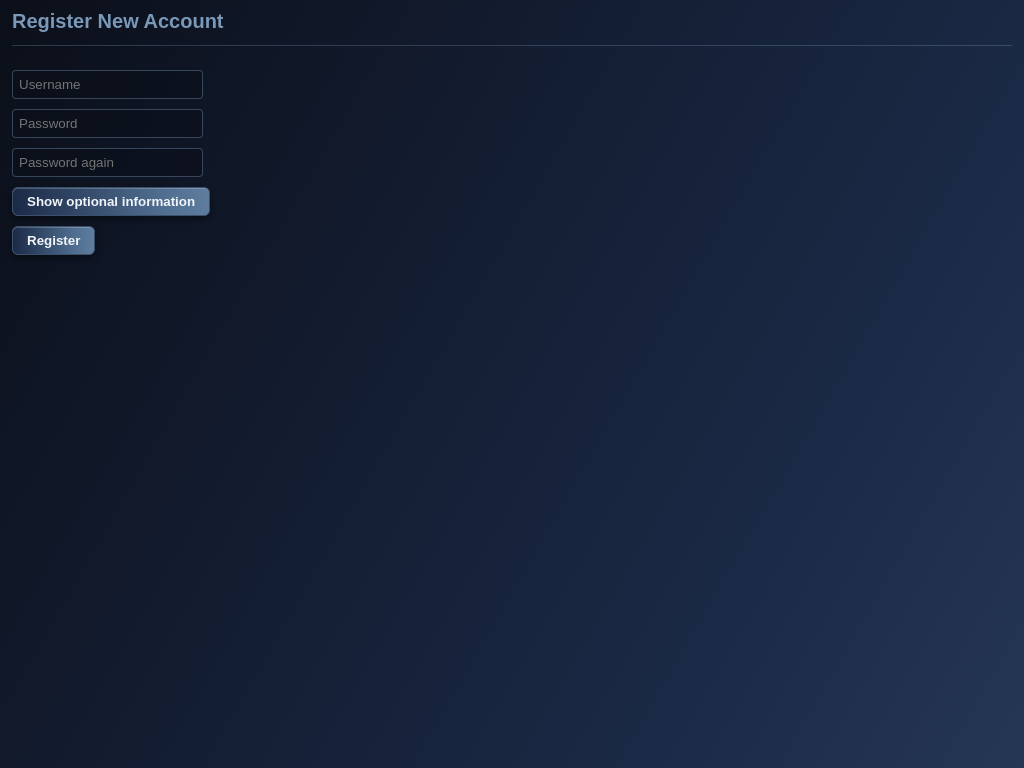
Test case: shows error message if passwords do not match
The image size is (1024, 768).
Type "testuser" into the field with placeholder "Username" at {"x": 108, "y": 84}, box [12,70,203,99]
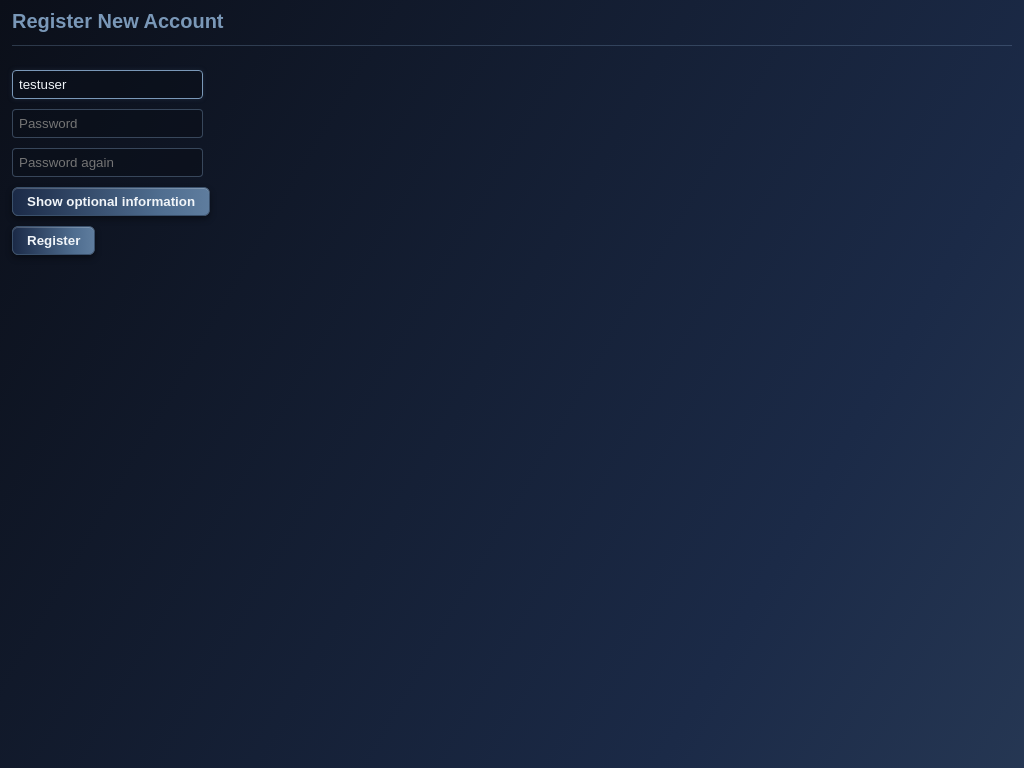
Type "12345" into the password field with placeholder "Password" at {"x": 108, "y": 124}, box [12,109,203,138]
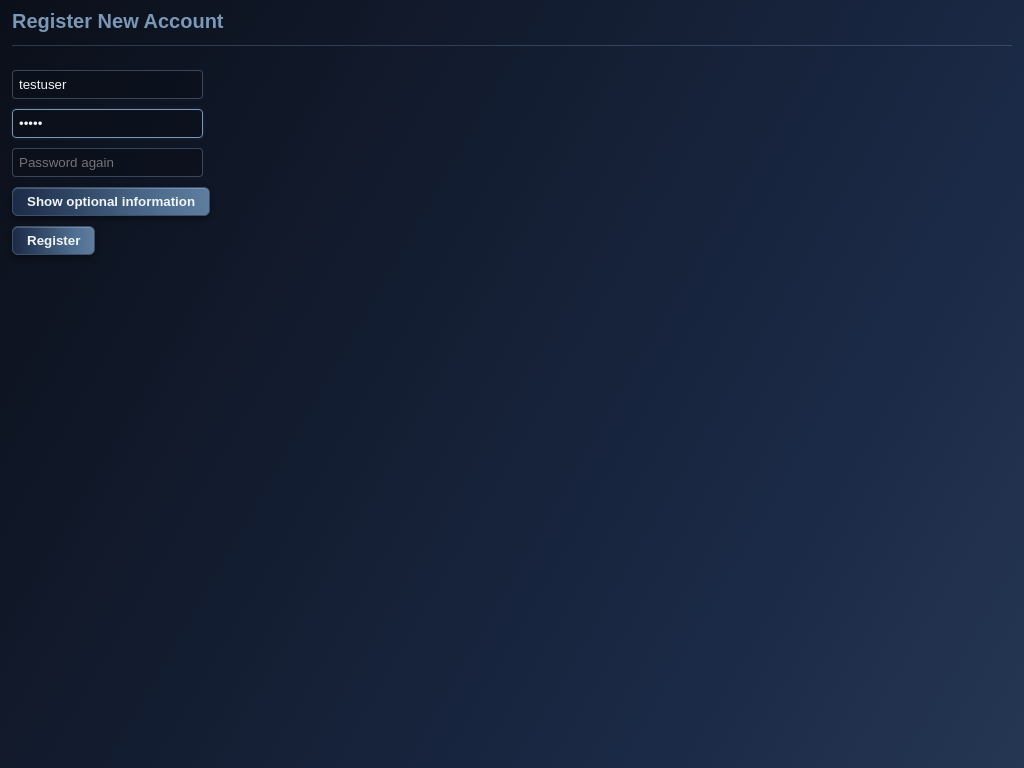
Type "54321" into the password field with placeholder "Password again" at {"x": 108, "y": 162}, box [12,148,203,177]
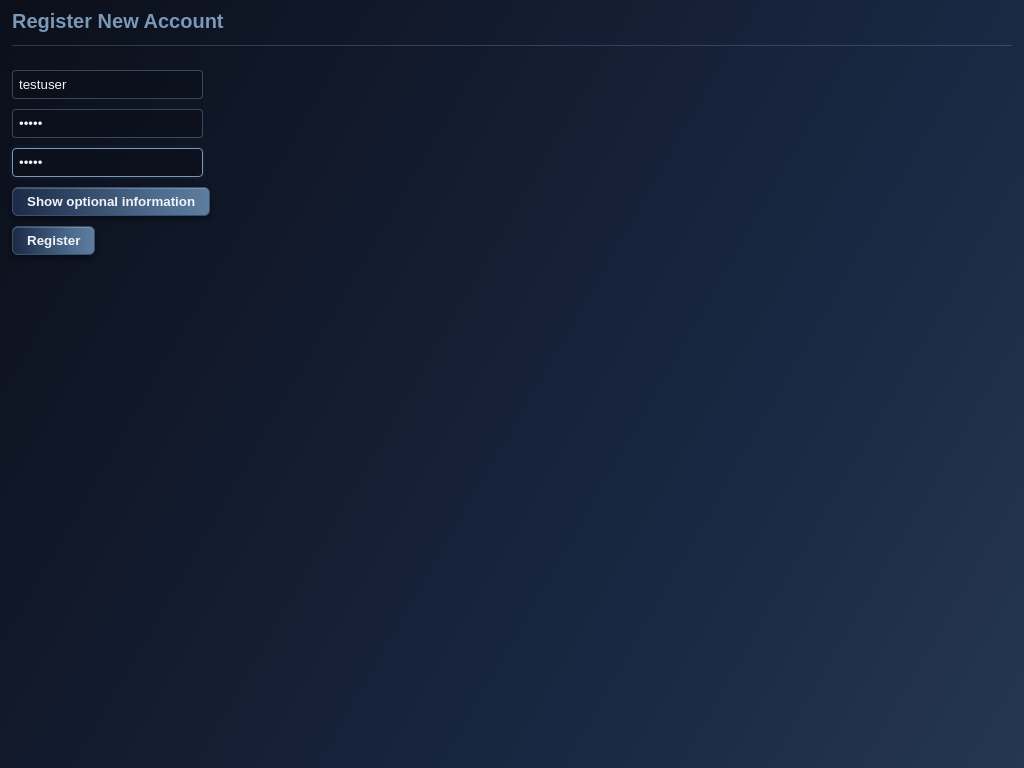
Click the button "Register" at {"x": 54, "y": 240}, box [12,226,95,255]
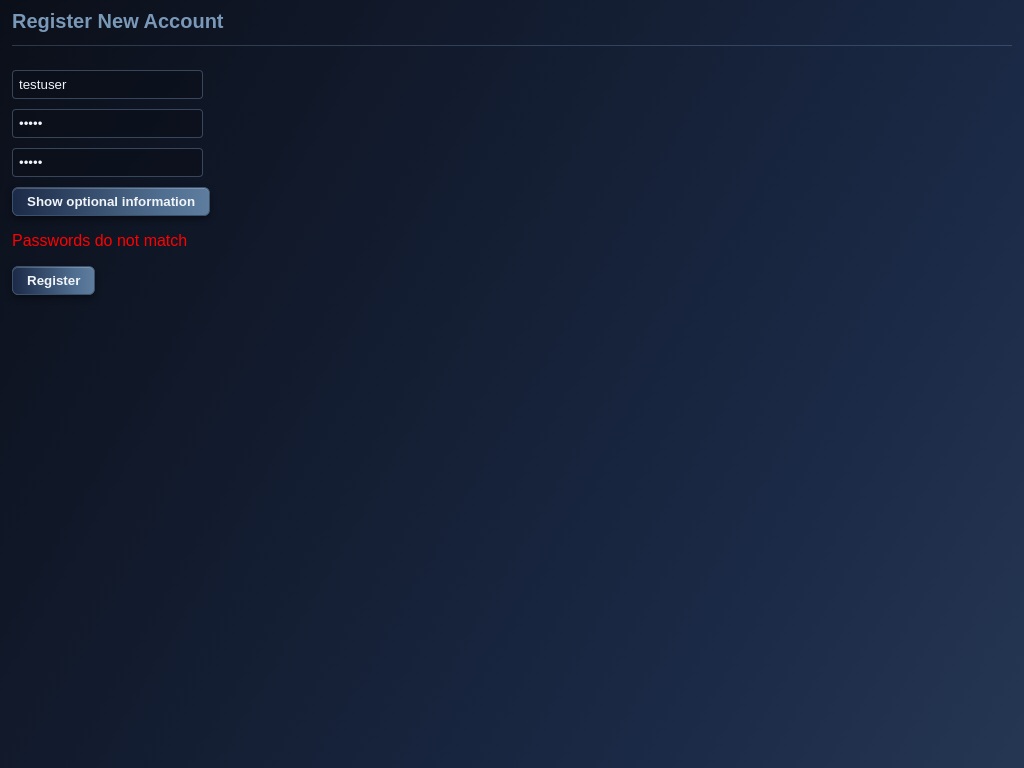
Expected: the text "Passwords do not match" is shown, [12,232,187,249]
